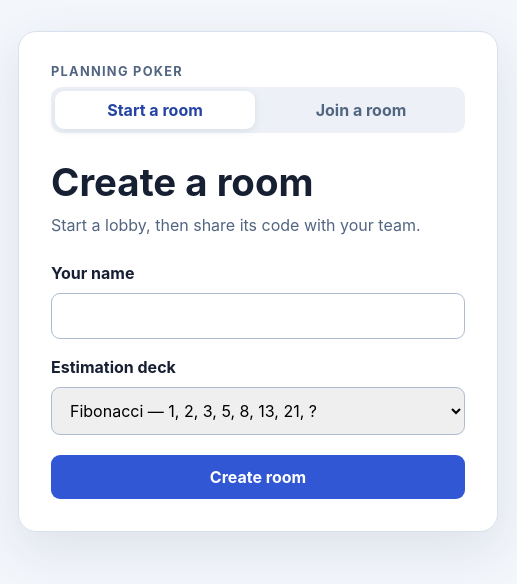
Test: room entry › shows a useful error when the room does not exist
Click the button "Join a room" at (361, 110), box left=261, top=90, right=461, bottom=128
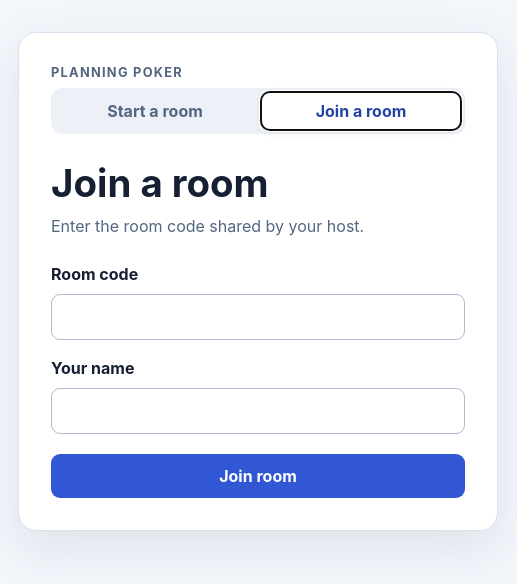
Type "ABC123" into the field labelled "Room code" at (258, 316), box left=51, top=294, right=465, bottom=340
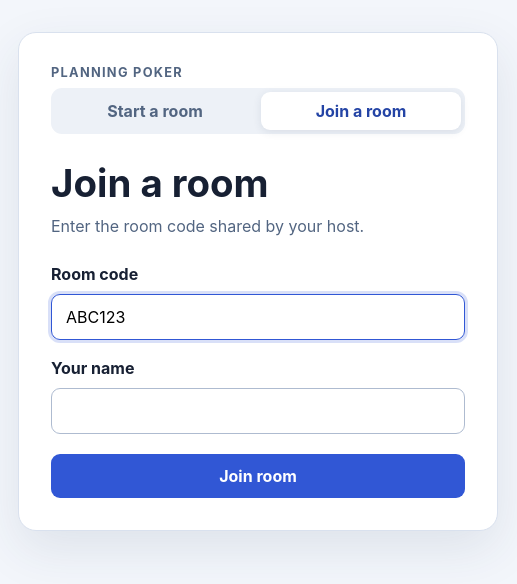
Type "Sam" into the field labelled "Your name" at (258, 410), box left=51, top=388, right=465, bottom=434
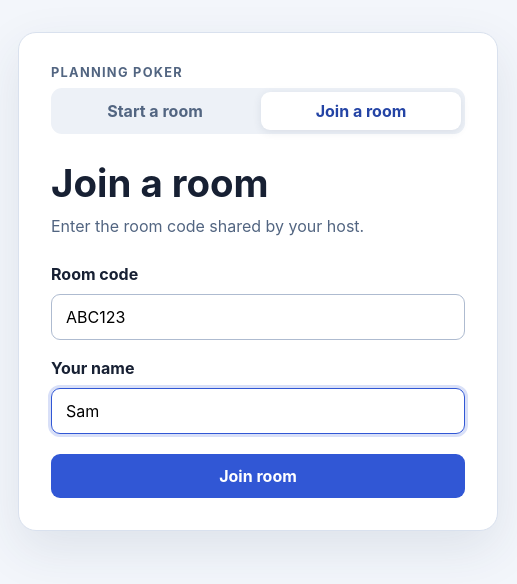
Click the button "Join room" at (258, 476), box left=51, top=454, right=465, bottom=498
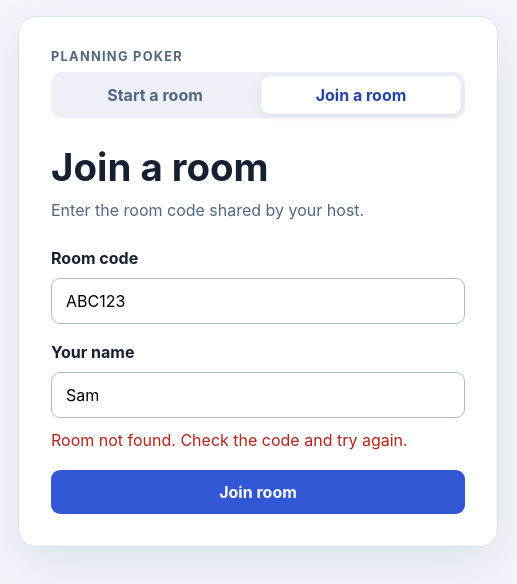
Now the message reads "Room not found. Check the code and try again.", box left=51, top=430, right=408, bottom=450
